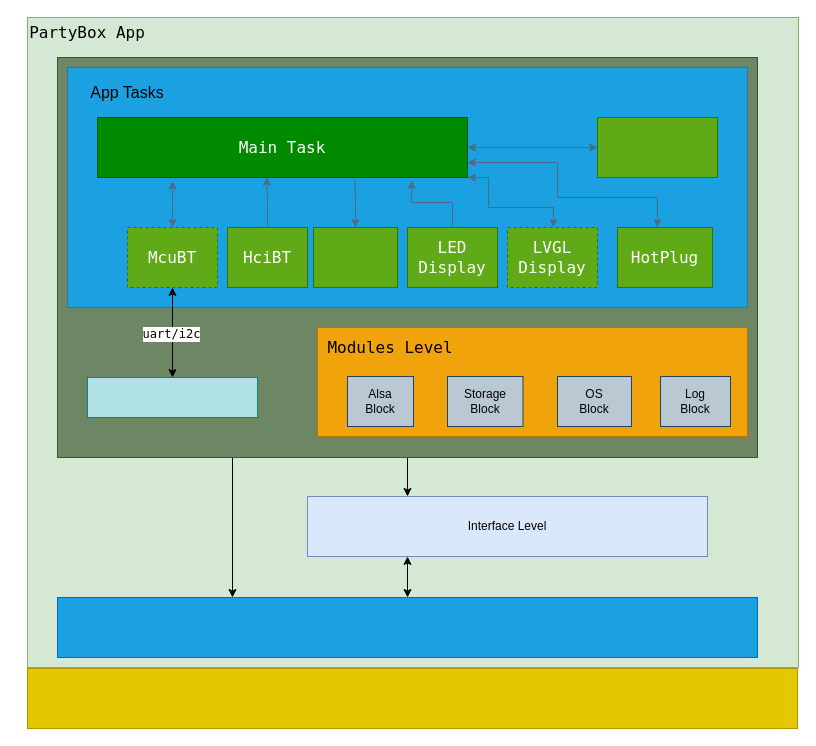
The diagram is 816 pixels wide and 746 high, and some of its shapes have lost their labels. The box of each missing label's shape, as (x1, y1, x2, y2) in pixels:
Hardware level: (56, 596, 758, 658)
Kernel: (26, 668, 798, 728)
KeyScan: (312, 226, 398, 288)
Rockit: (596, 116, 718, 178)
Vendor Profile: (86, 376, 258, 418)
